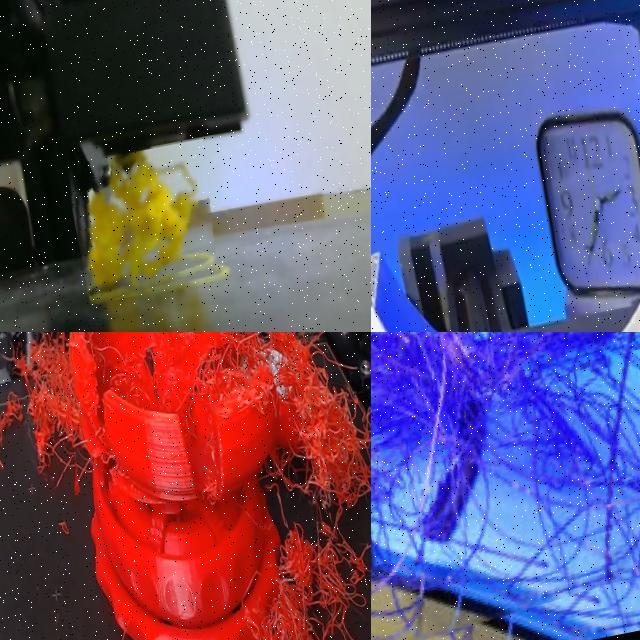spaghetti: (371, 332, 640, 640), (195, 332, 371, 640), (88, 150, 219, 303), (0, 332, 99, 516)
